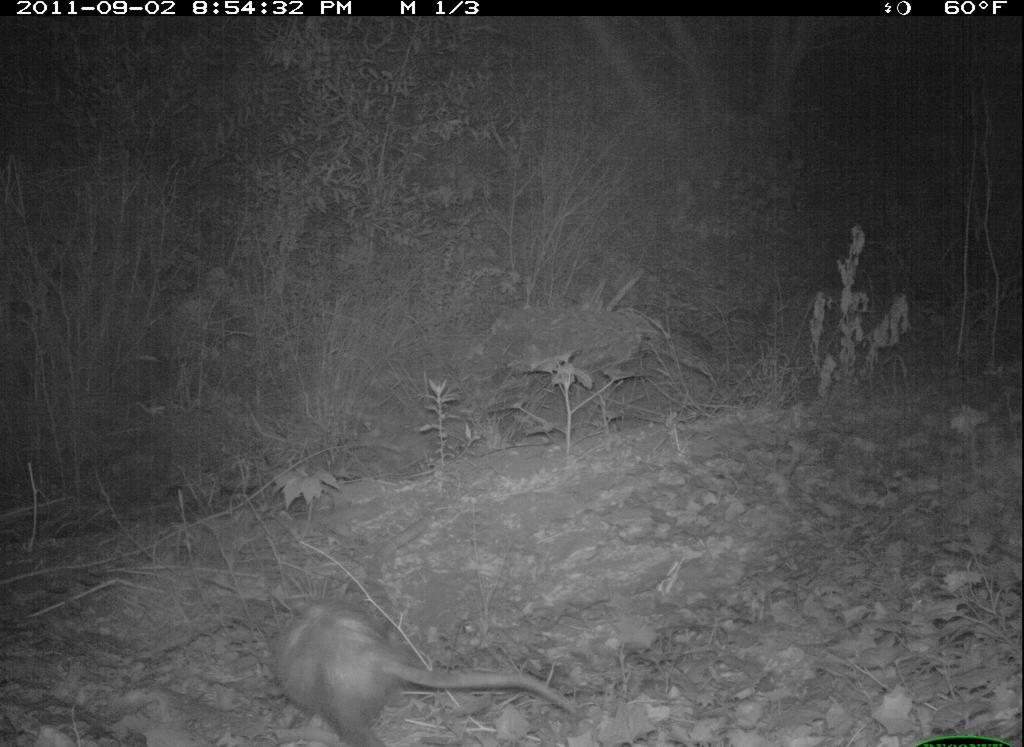opossum: (271, 588, 605, 747)
